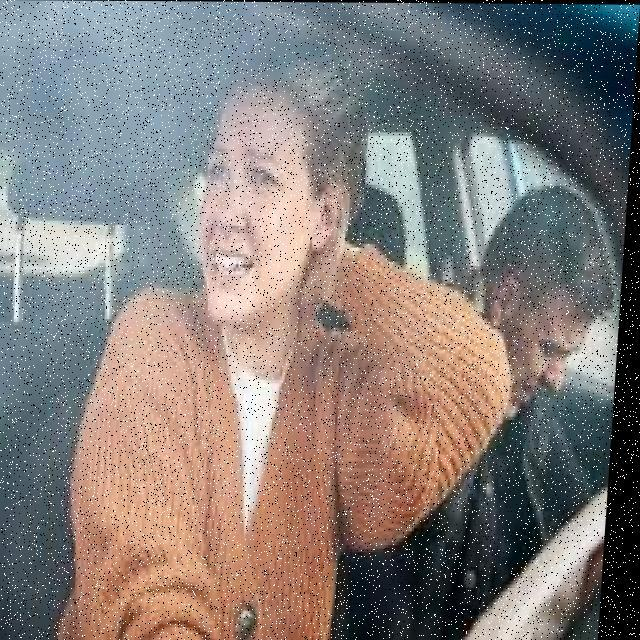noSeatbelt: (62, 271, 386, 640)
